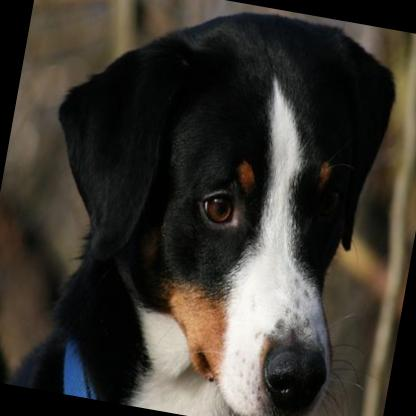Appenzeller: (3, 0, 405, 416)
